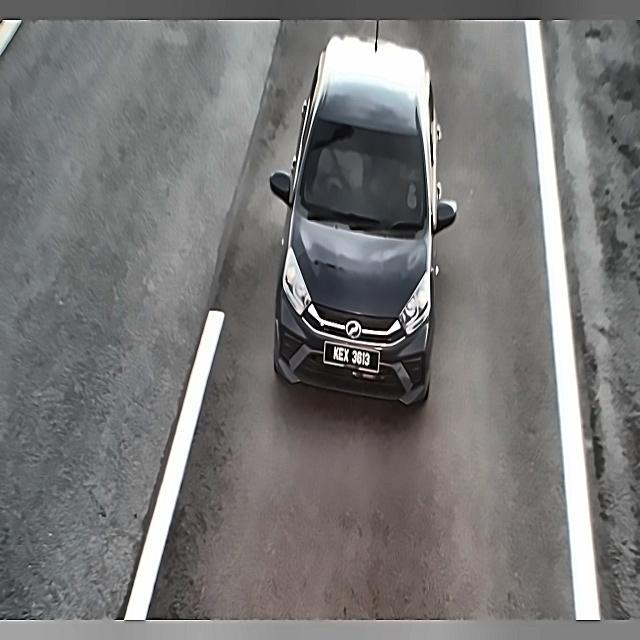car: (320, 332, 381, 380)
